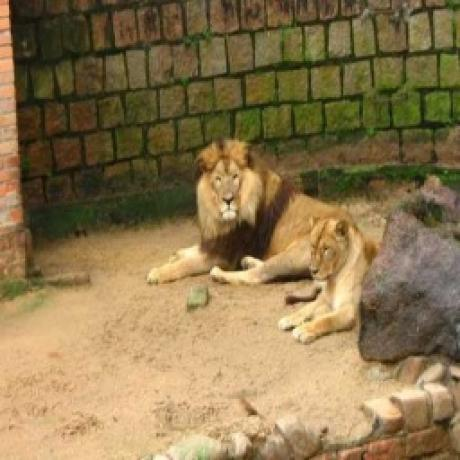Lion: (143, 137, 339, 291), (281, 207, 375, 344)
